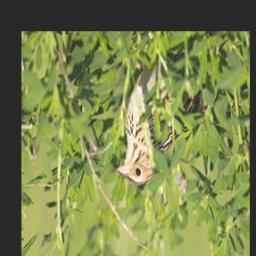Sparrow: (114, 48, 207, 187)
